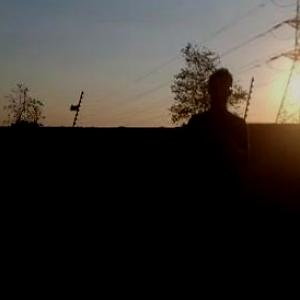follow: (175, 61, 251, 292)
